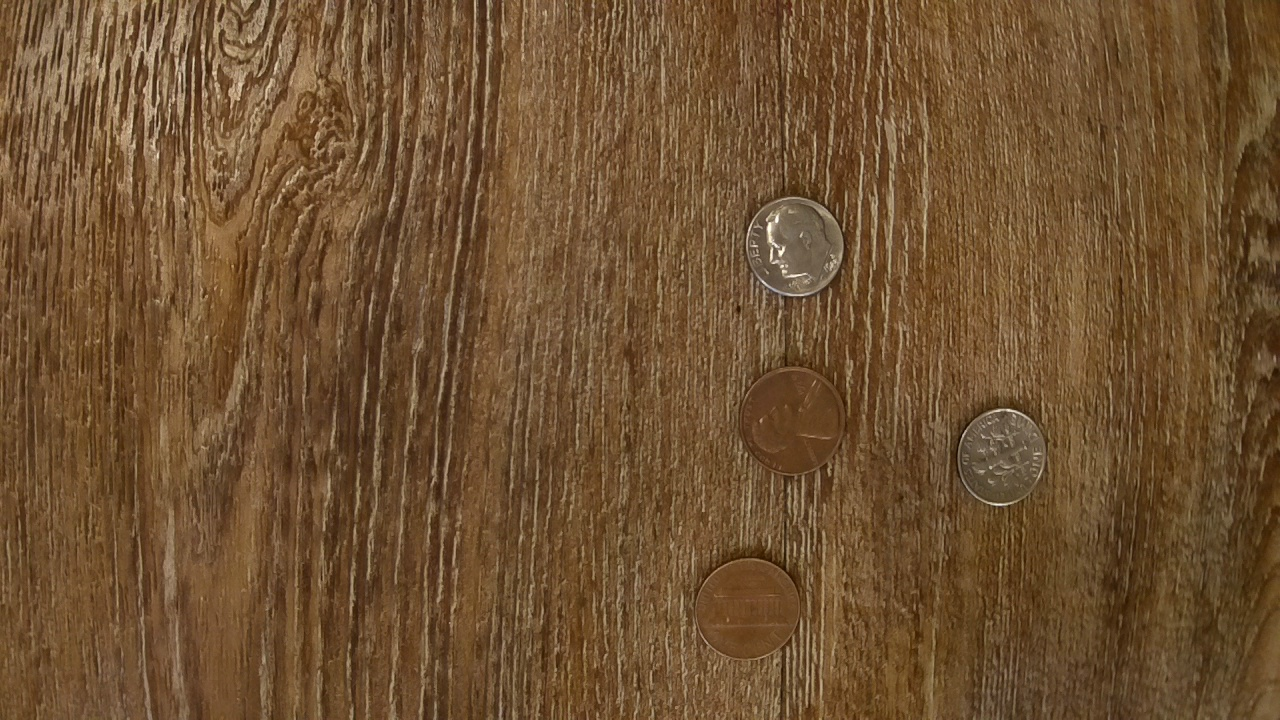dime: (741, 192, 847, 300), (954, 403, 1050, 509)
penny: (735, 364, 849, 478), (690, 556, 804, 662)
